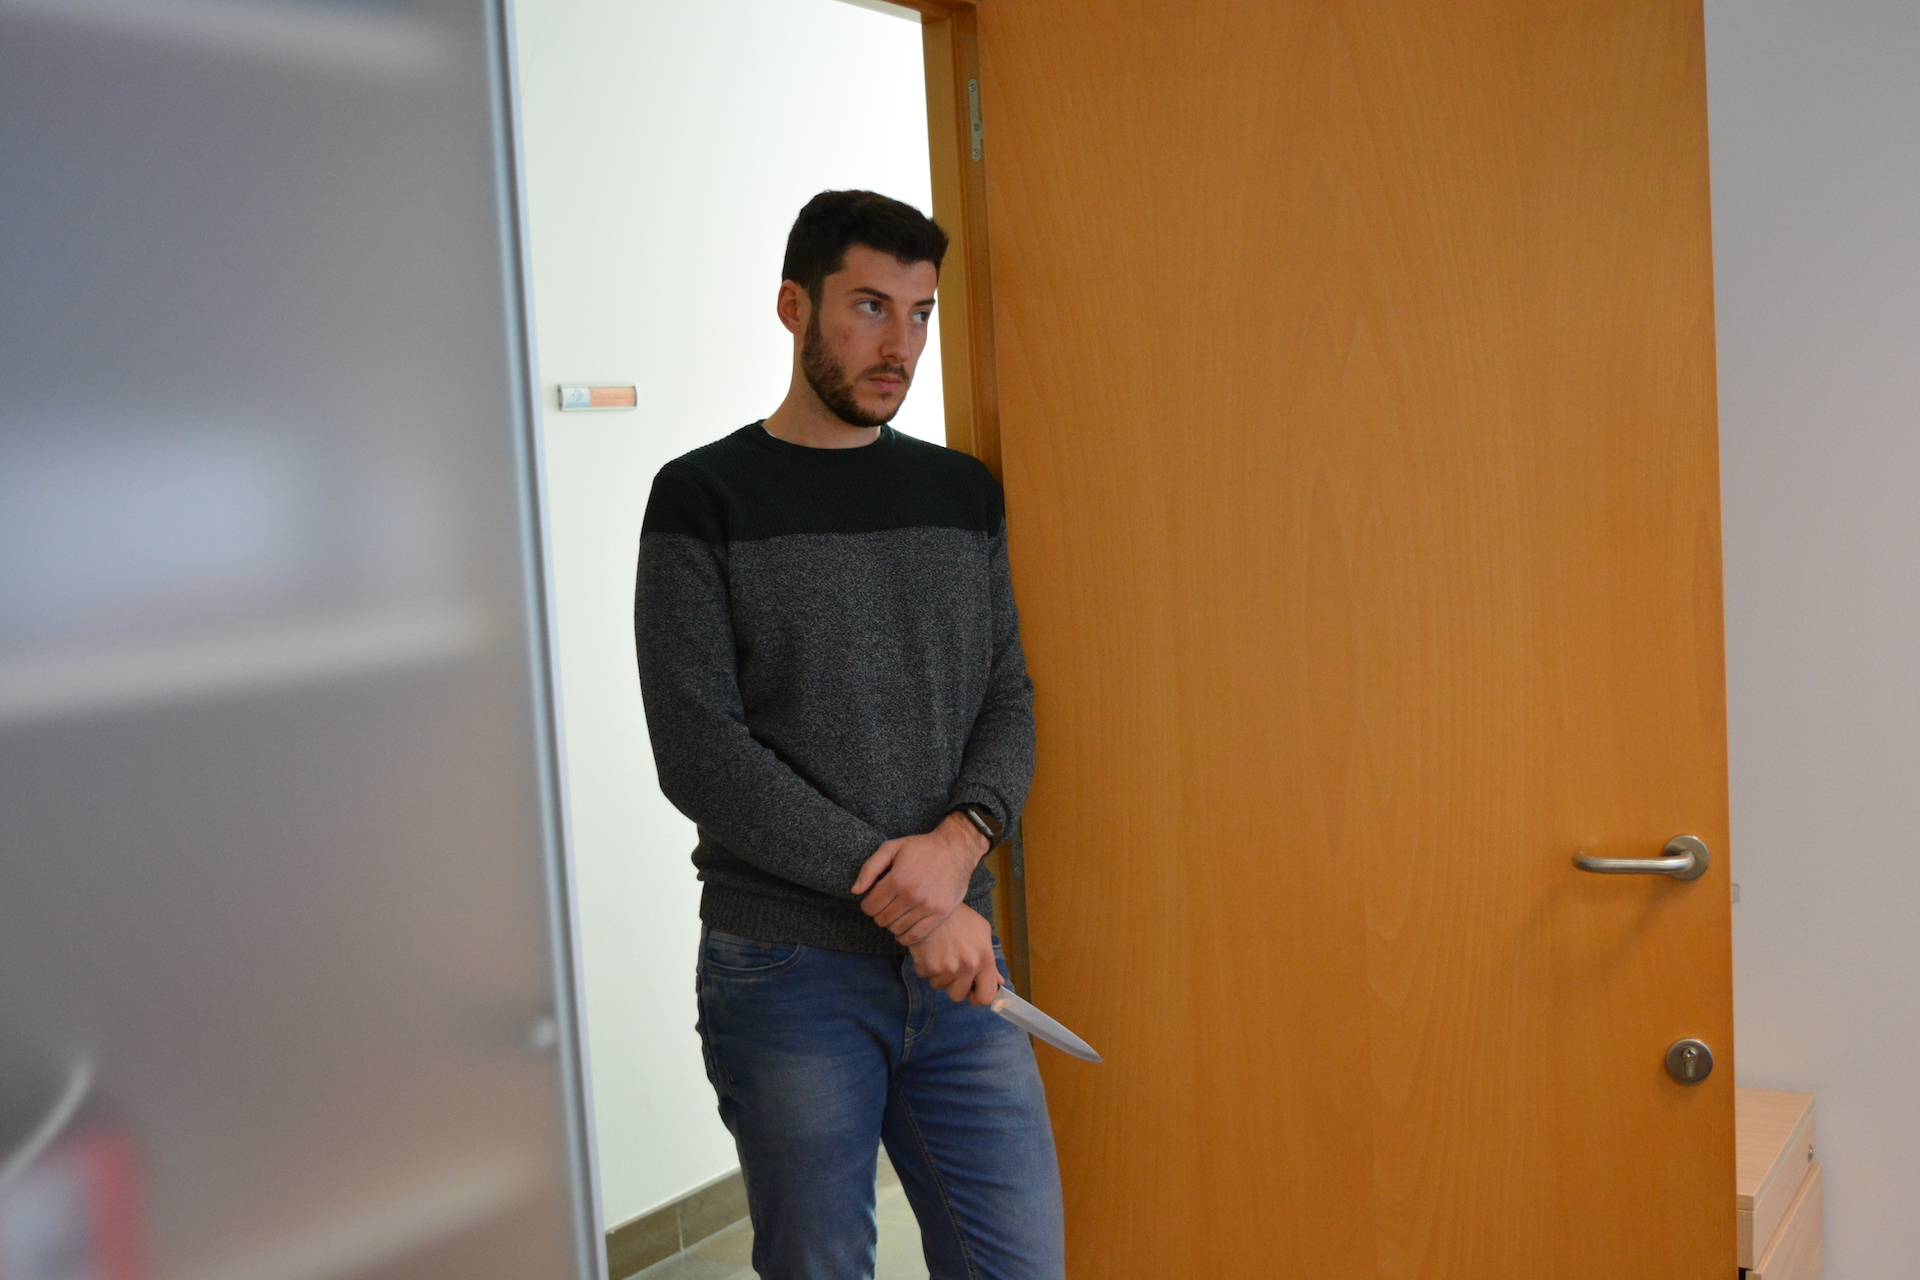knife: (951, 963, 1116, 1077)
